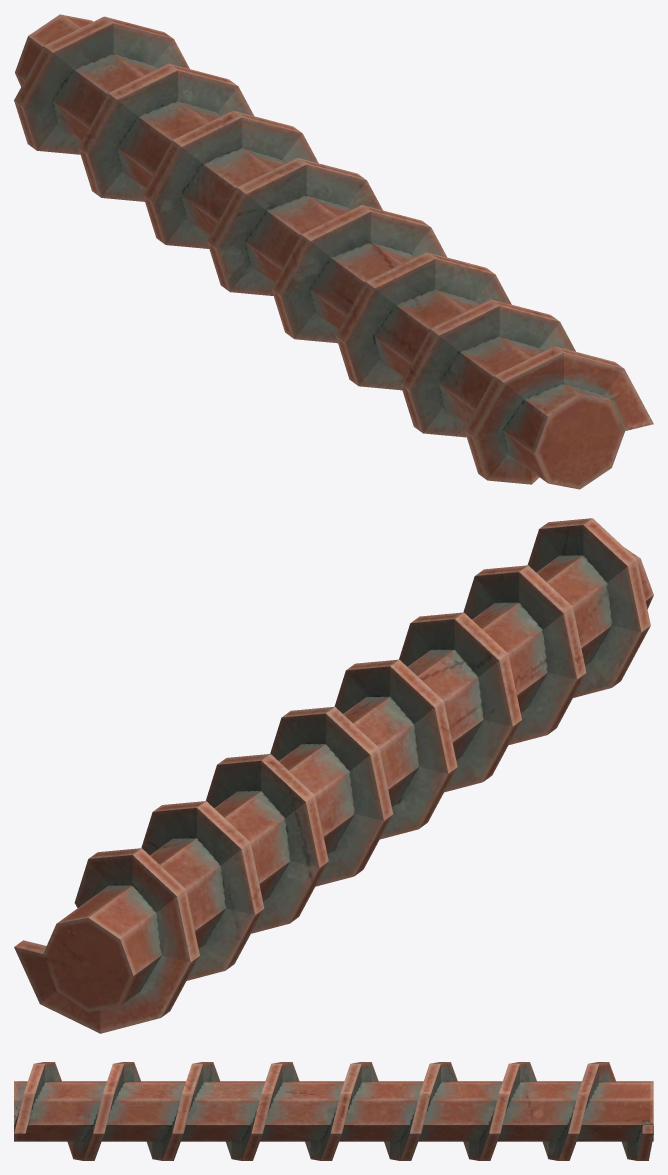
The model's file is CopperThreadedRod.glb.
3 views of the same model, one above another, from view 1: azimuth 30°, elevation 25°; view 2: azimuth 150°, elevation 25°; view 3: azimuth 270°, elevation 25° (orthographic). The views are drawn at different scales.
Parts seen in each view (by area): view 1: CopperThreadedRod; view 2: CopperThreadedRod; view 3: CopperThreadedRod.
Boxes of the visible parts, x1,y1,x2,y2 form: CopperThreadedRod: (14,14,653,489); CopperThreadedRod: (14,518,653,1033); CopperThreadedRod: (14,1062,653,1160).
Size of the model in its own units: 0.133 by 0.133 by 0.8084.
1 material, 1 textured.
